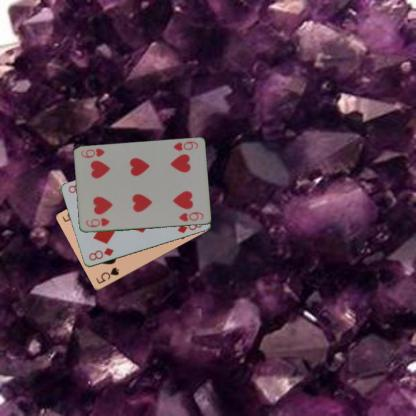5s: (94, 264, 120, 286)
6h: (170, 138, 199, 152), (83, 215, 111, 229)
8d: (86, 245, 115, 262)
